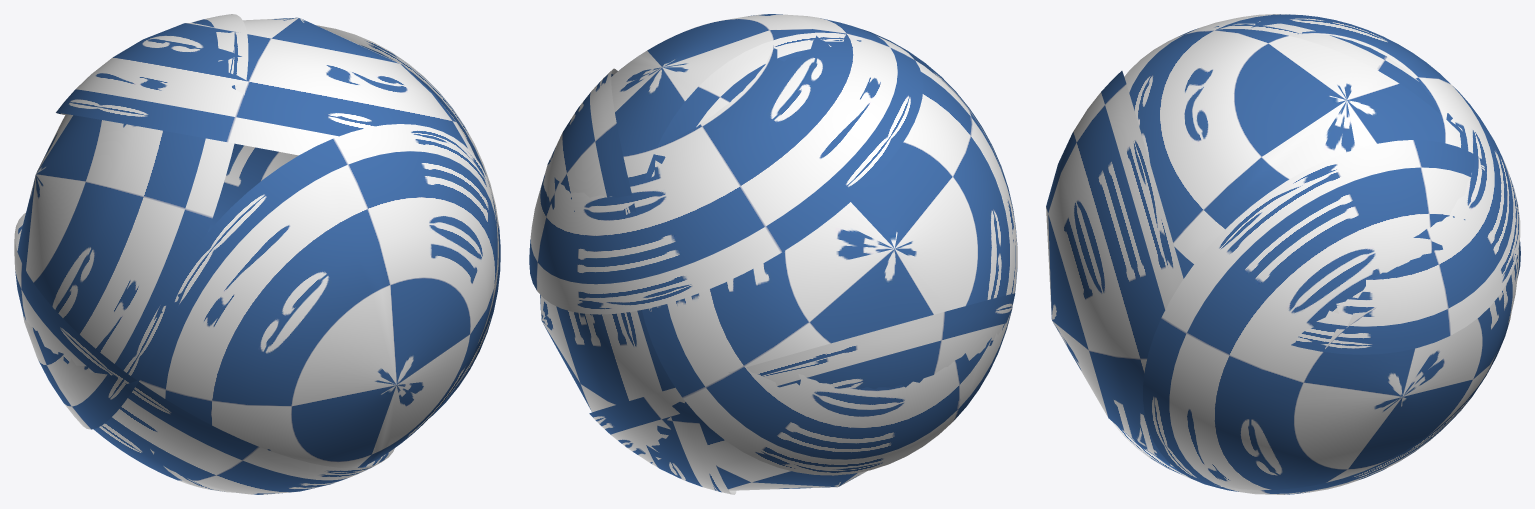
Rendered from Enmu_Sphere2.fbx.
3 views of the same model, side by side, from view 1: azimuth 30°, elevation 25°; view 2: azimuth 150°, elevation 25°; view 3: azimuth 270°, elevation 25° (orthographic).
Parts seen in each view (by area): view 1: SM_e_Plc_P1011_Sphere003; view 2: SM_e_Plc_P1011_Sphere003; view 3: SM_e_Plc_P1011_Sphere003.
Boxes of the visible parts, bbox=[...] form: SM_e_Plc_P1011_Sphere003: bbox=[14, 14, 500, 494]; SM_e_Plc_P1011_Sphere003: bbox=[529, 14, 1017, 494]; SM_e_Plc_P1011_Sphere003: bbox=[1046, 14, 1520, 494].
Size of the model in its own units: 98.92 by 98.02 by 97.47.
